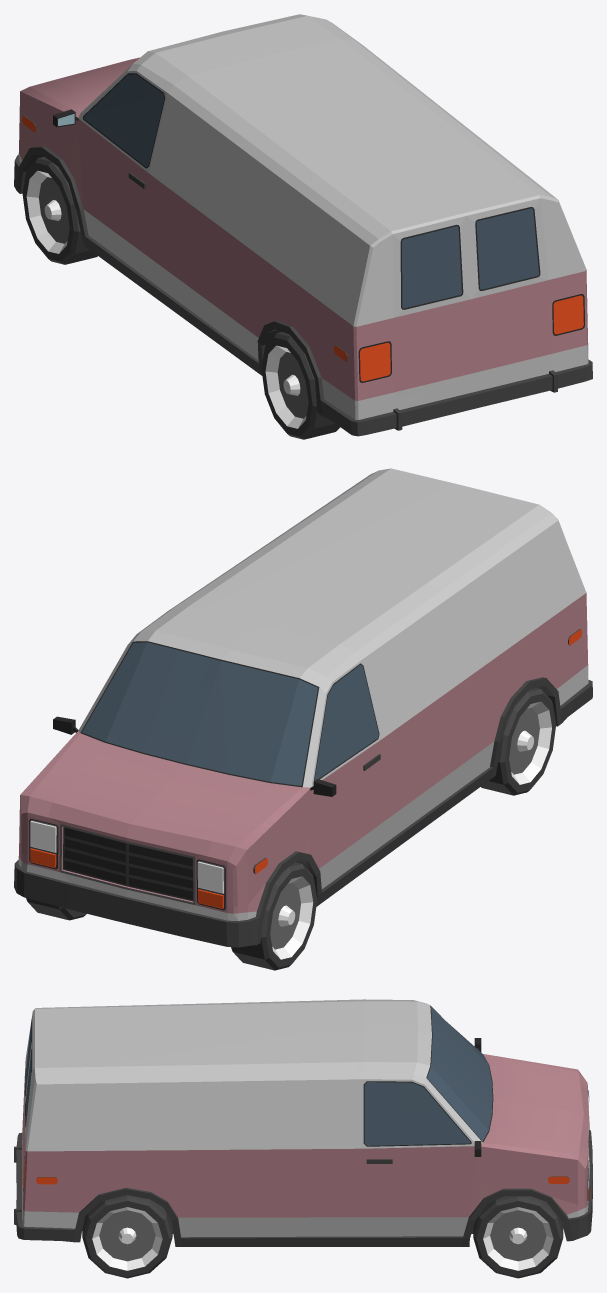
Rendered from abandoned_van.glb.
The picture shows the model from 3 angles, top to bottom: view 1: azimuth 30°, elevation 25°; view 2: azimuth 150°, elevation 25°; view 3: azimuth 270°, elevation 25°; orthographic projection. The views are drawn at different scales.
Visible parts, largest first — view 1: N Van_10, N Van_10 BL Tire, N Van_10 FL Tire; view 2: N Van_10, N Van_10 FL Tire, N Van_10 BL Tire; view 3: N Van_10, N Van_10 BR Tire, N Van_10 FR Tire.
Boxes of the visible parts, bbox=[...] form: N Van_10: bbox=[14, 14, 592, 436]; N Van_10 BL Tire: bbox=[261, 332, 339, 439]; N Van_10 FL Tire: bbox=[22, 156, 97, 264]; N Van_10: bbox=[14, 468, 592, 947]; N Van_10 FL Tire: bbox=[231, 862, 317, 970]; N Van_10 BL Tire: bbox=[481, 688, 556, 795]; N Van_10: bbox=[14, 999, 592, 1246]; N Van_10 BR Tire: bbox=[82, 1195, 172, 1278]; N Van_10 FR Tire: bbox=[473, 1196, 563, 1278].
Bounding box in the file's own units: 2.05 × 1.71 × 4.5.
Materials: 2 (2 with a texture image).
